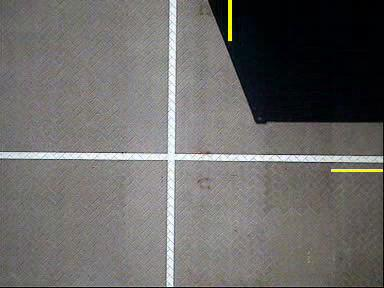groundmarker_2: (102, 188, 156, 218)
